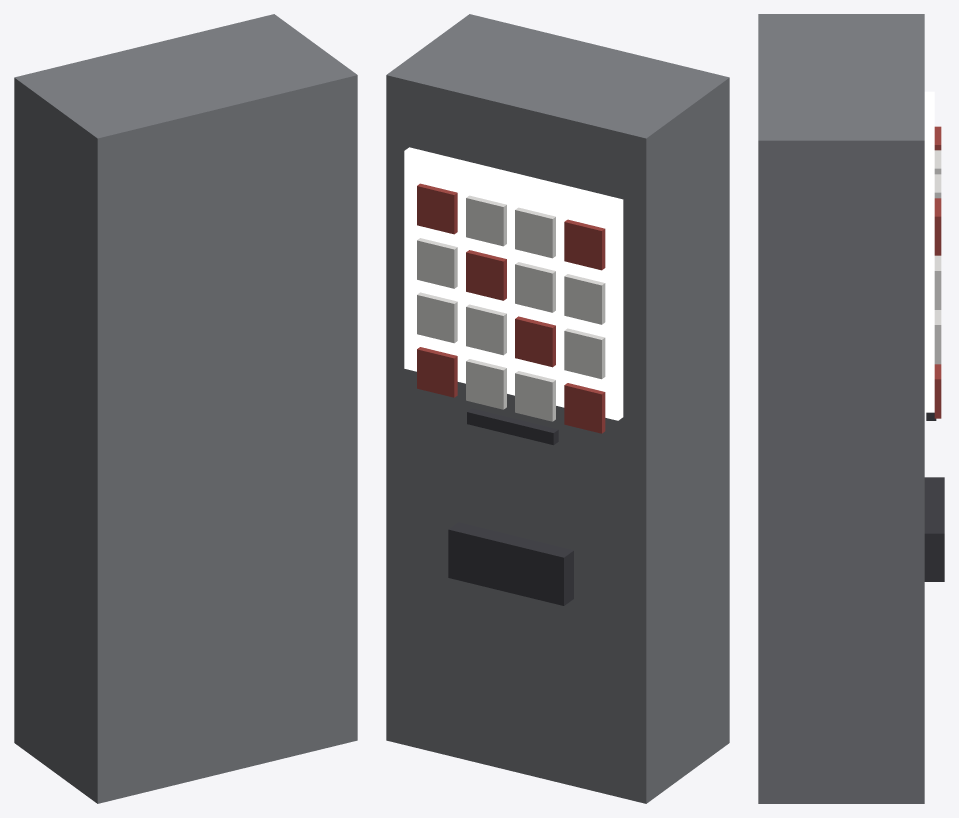
The model's file is prop_kenbaiki.glb.
3 renders of one model, left to right at view 1: azimuth 30°, elevation 25°; view 2: azimuth 150°, elevation 25°; view 3: azimuth 270°, elevation 25°, orthographic.
Visible parts, largest first — view 1: kenbaiki; view 2: kenbaiki; view 3: kenbaiki.
Boxes of the visible parts, x1,y1,x2,y2 form: kenbaiki: [14, 14, 357, 803]; kenbaiki: [386, 14, 729, 803]; kenbaiki: [758, 14, 944, 803].
Bounding box in the file's own units: 0.9 × 2.2 × 0.56.
